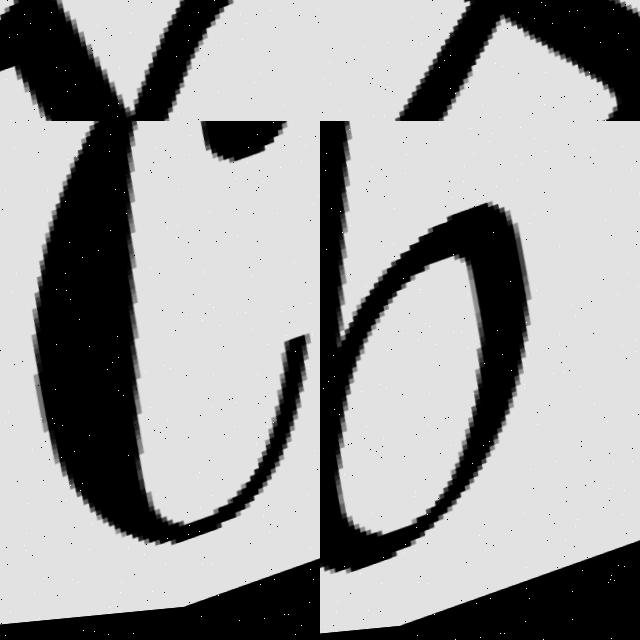B: (320, 121, 537, 582)
C: (40, 121, 318, 553)
X: (0, 0, 320, 121), (320, 0, 640, 121)
